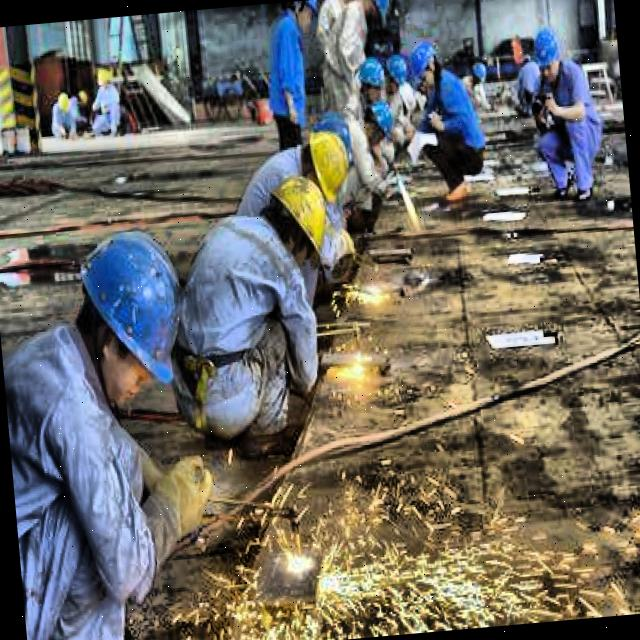helmet: (65, 216, 199, 414), (242, 160, 344, 286), (298, 120, 360, 210), (530, 16, 566, 87), (405, 40, 445, 100), (354, 53, 392, 107), (362, 95, 398, 149), (380, 49, 409, 94)
